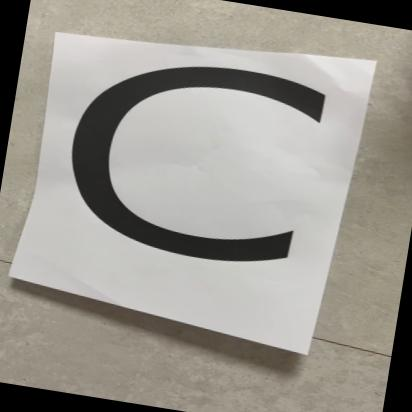seat: (24, 33, 360, 344)
